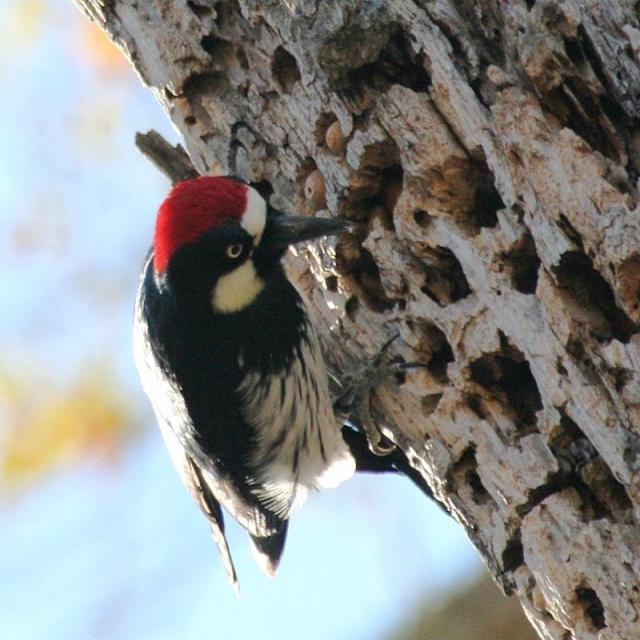bird: (117, 162, 450, 590)
